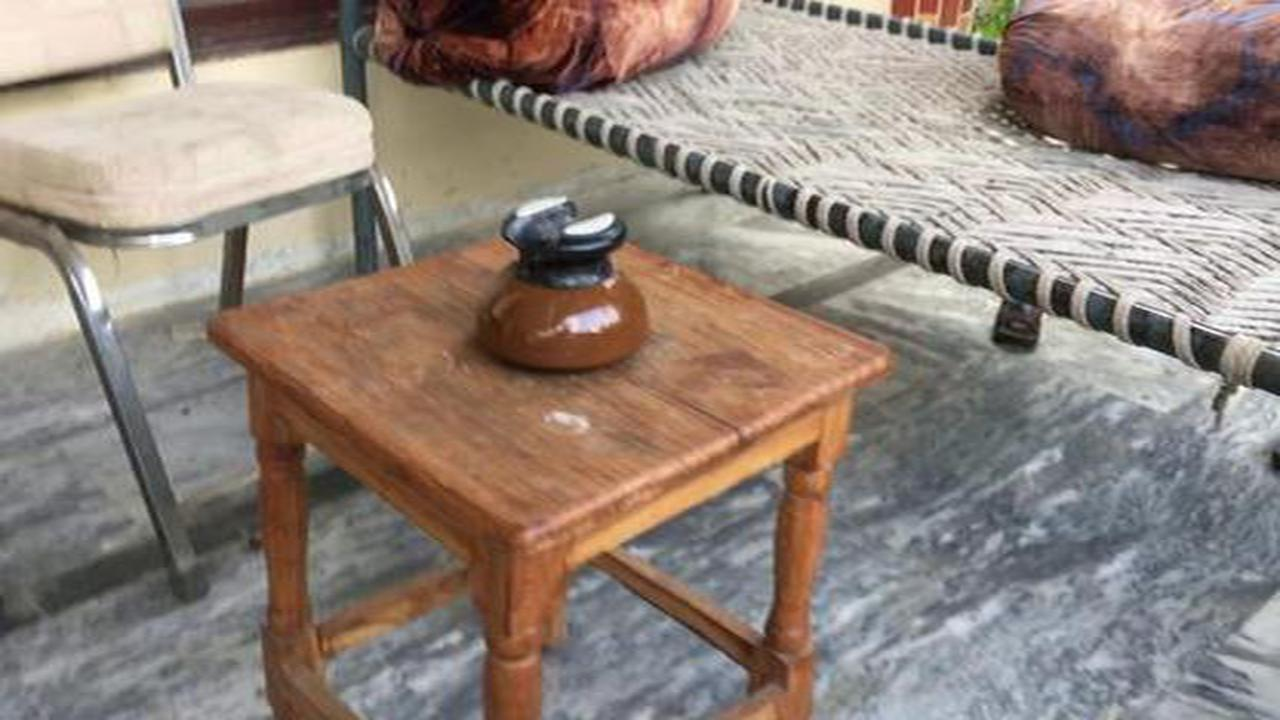insulator_pin: (453, 181, 668, 383)
